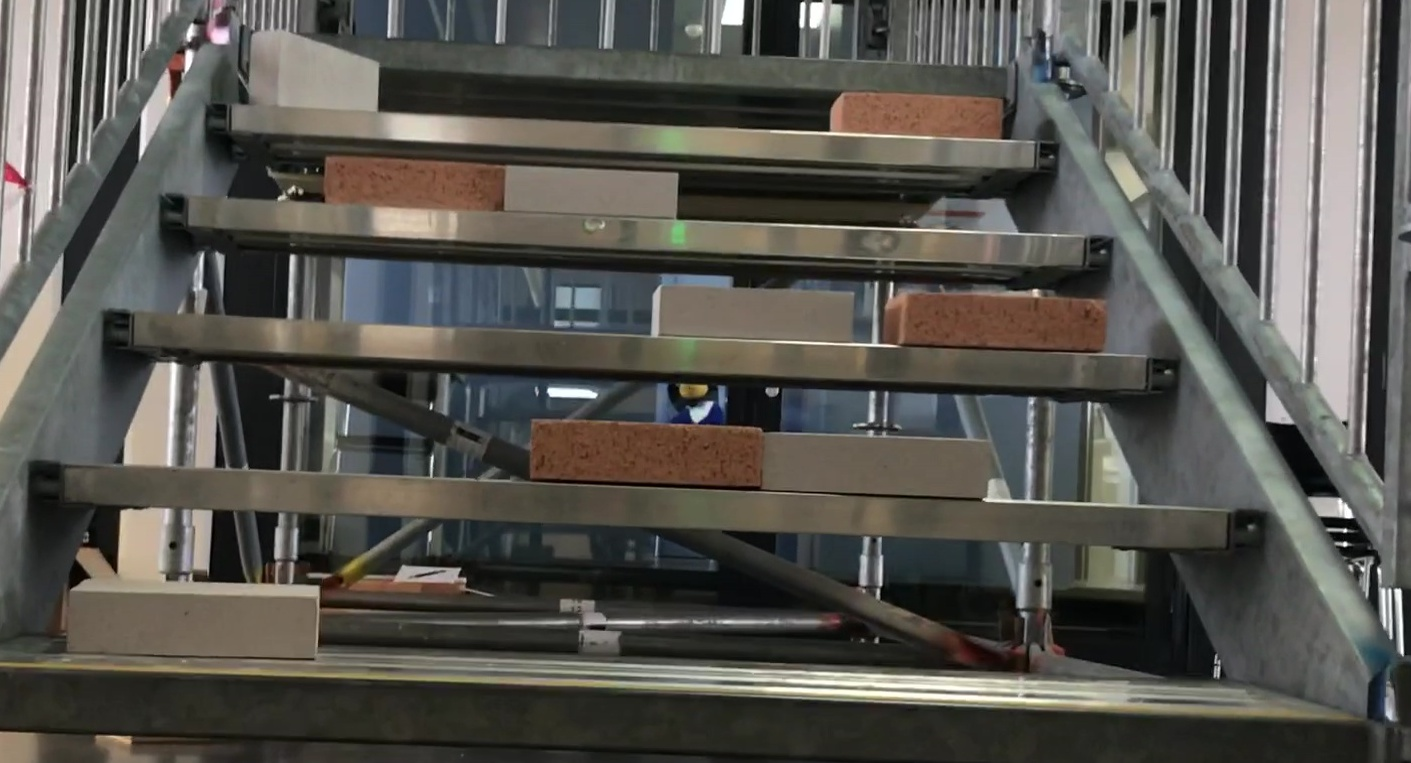brick: (70, 582, 316, 659), (531, 419, 760, 487), (768, 435, 988, 496), (882, 294, 1106, 351), (652, 285, 851, 340), (250, 31, 377, 110), (326, 158, 505, 209), (509, 167, 677, 215), (829, 92, 1001, 138)
edge: (2, 669, 1366, 763), (29, 465, 1262, 560), (107, 305, 1180, 398), (163, 191, 1112, 280), (210, 103, 1058, 183), (243, 20, 1011, 101)
